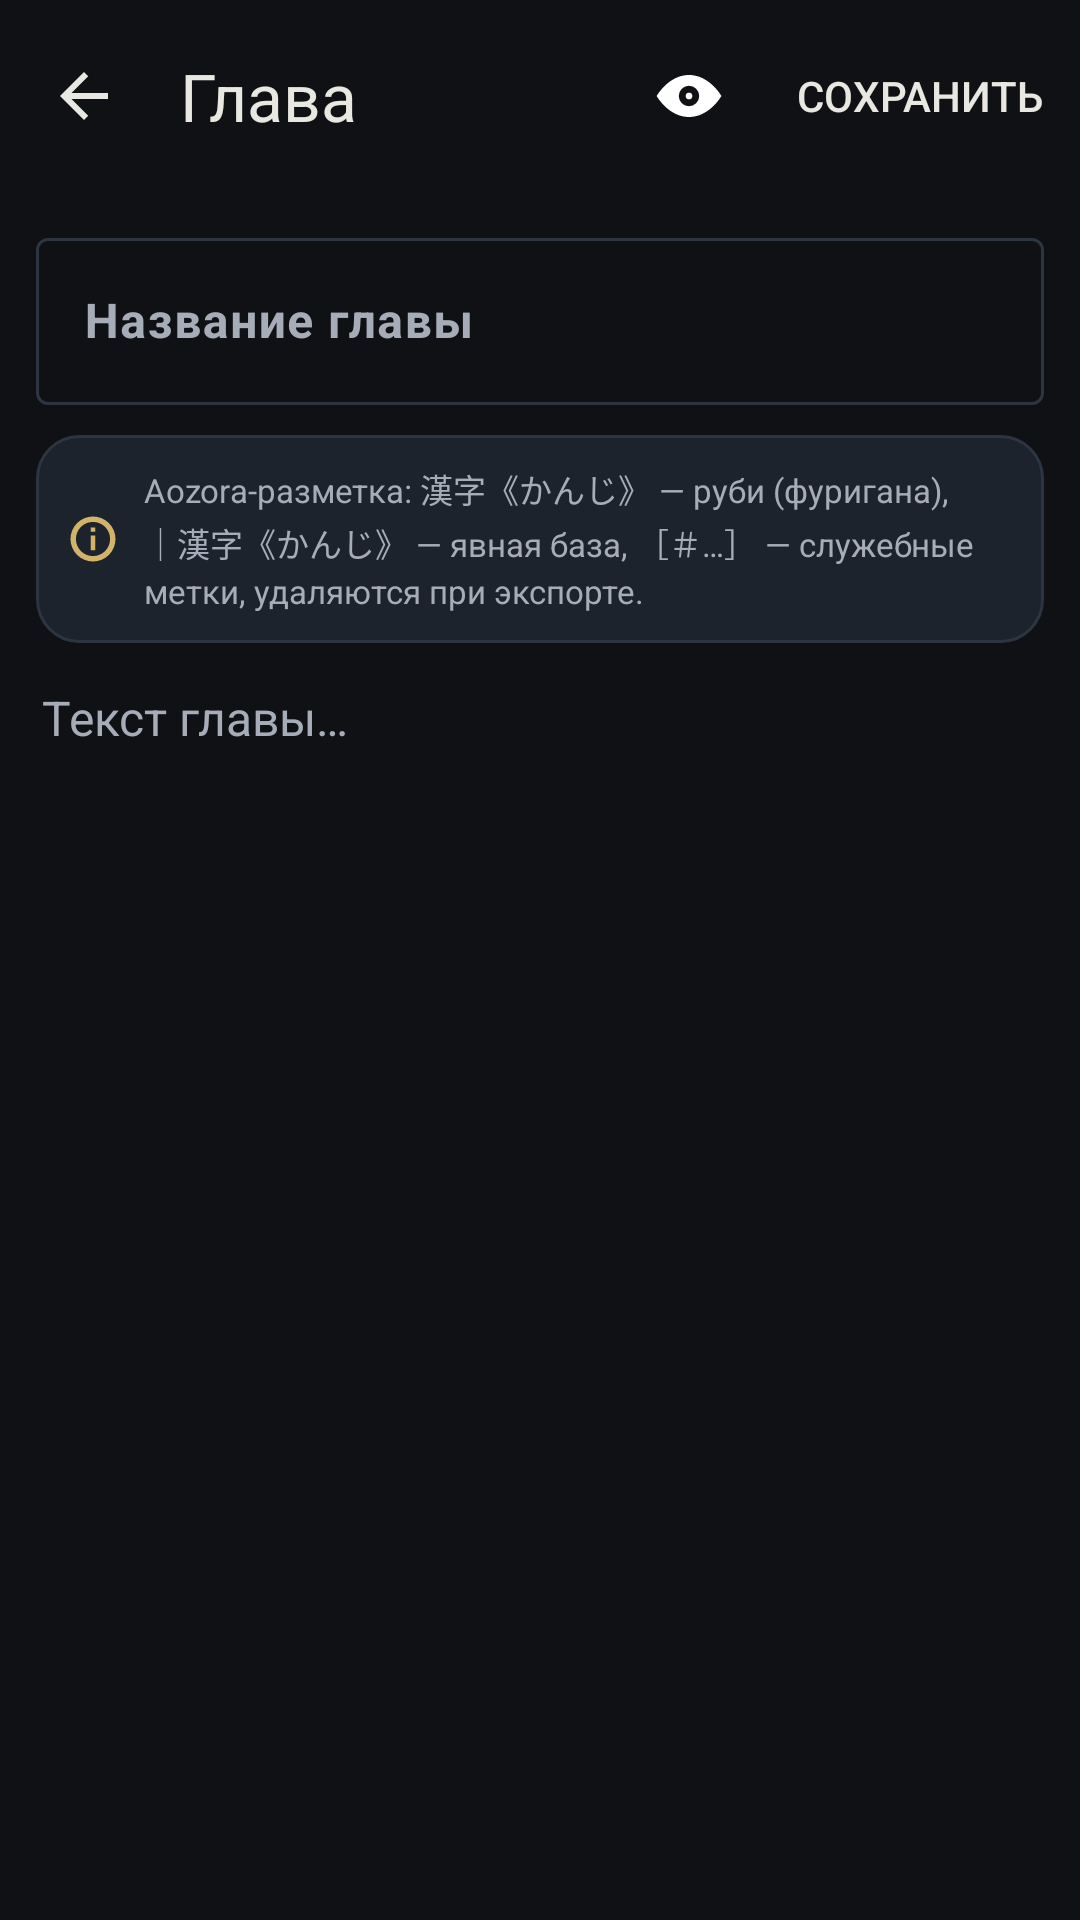

Point at icon controls on the screen. Image size 1080x1920, points as [x,y].
info: [93,539]
